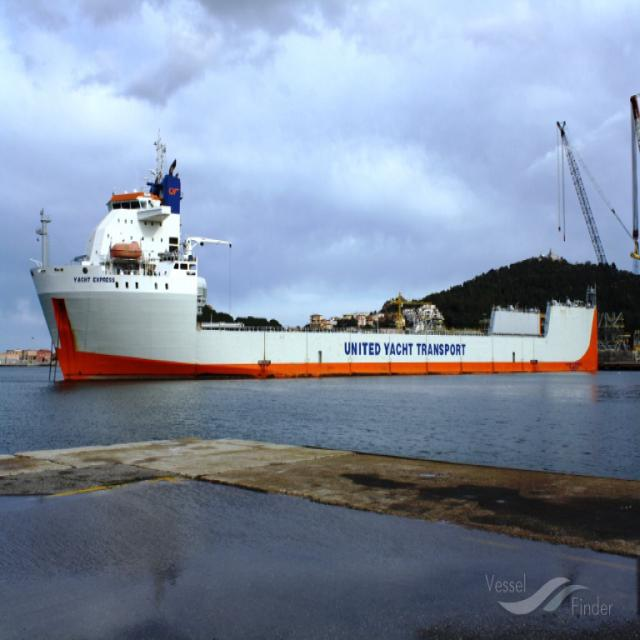OCR: (331, 335, 469, 366)
